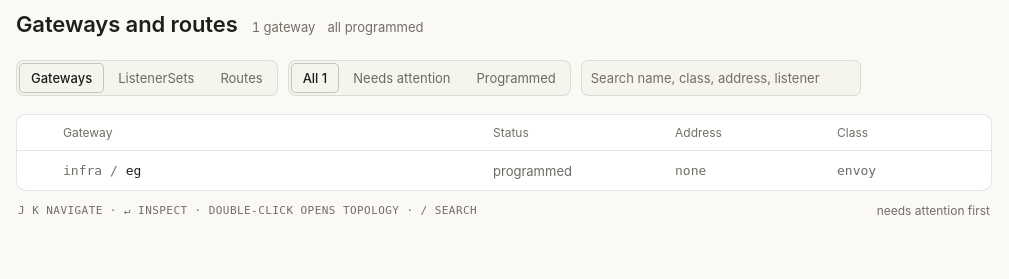
Test: the Routes part view › a summary fault marks the header even over healthy old rows
This screenshot has width=1009, height=279.
Click the button "Routes": click(242, 78) [208,63,275,93]
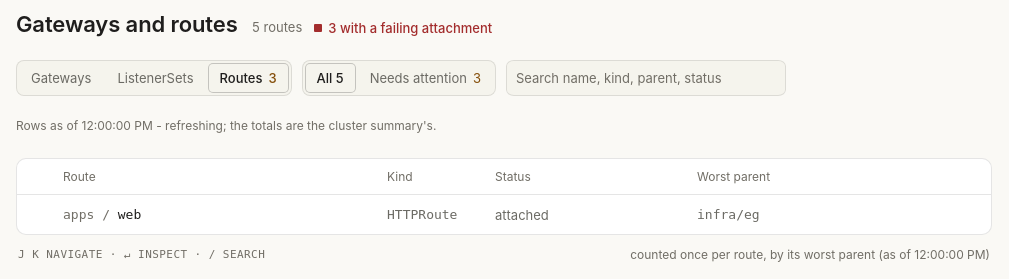
Expected: the element with test id "route-attention" reads "3 with a failing attachment", [328,20,492,36]
